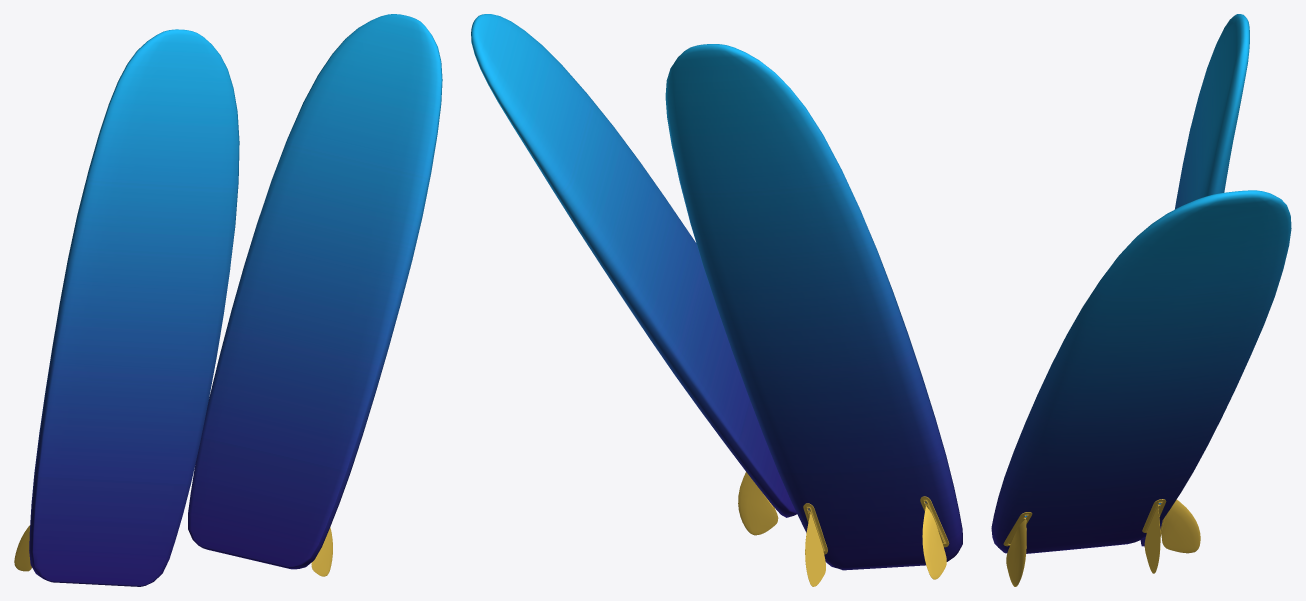
The model's file is Surfboard (1).fbx.
3 renders of one model, left to right at view 1: azimuth 30°, elevation 25°; view 2: azimuth 150°, elevation 25°; view 3: azimuth 270°, elevation 25°, orthographic. The views are drawn at different scales.
Visible parts, largest first — view 1: g.011, g.004; view 2: g.011, g.004; view 3: g.004, g.011.
Boxes of the visible parts, left/top/right/bottom form: g.011: left=14, top=29, right=239, bottom=586; g.004: left=188, top=14, right=442, bottom=576; g.011: left=665, top=44, right=962, bottom=586; g.004: left=471, top=14, right=796, bottom=535; g.004: left=991, top=190, right=1291, bottom=586; g.011: left=1140, top=14, right=1249, bottom=553.
Bounding box in the file's own units: 172 × 199 × 95.26.
Materials: 3 (1 with a texture image).
